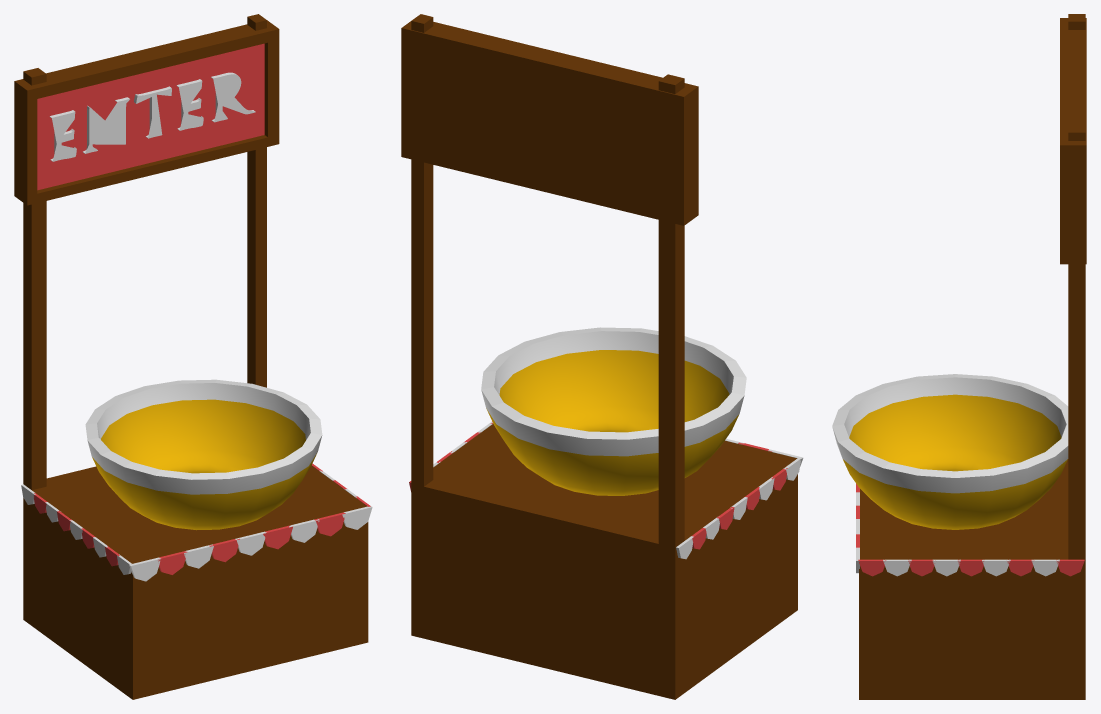
The model's file is Entrance.fbx.
3 renders of one model, left to right at view 1: azimuth 30°, elevation 25°; view 2: azimuth 150°, elevation 25°; view 3: azimuth 270°, elevation 25°, orthographic. The views are drawn at different scales.
Parts seen in each view (by area): view 1: polySurface10; view 2: polySurface10; view 3: polySurface10.
Boxes of the visible parts, x1,y1,x2,y2 form: polySurface10: (14, 14, 372, 699); polySurface10: (401, 14, 803, 699); polySurface10: (832, 14, 1086, 699).
Size of the model in its own units: 2.29 by 4.77 by 1.94.
